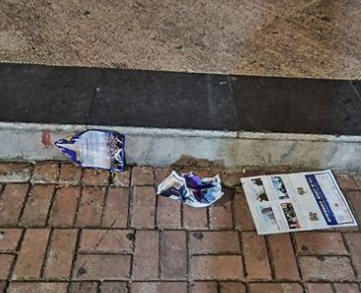garbage: (242, 166, 361, 244), (50, 123, 135, 182), (151, 166, 234, 207)
